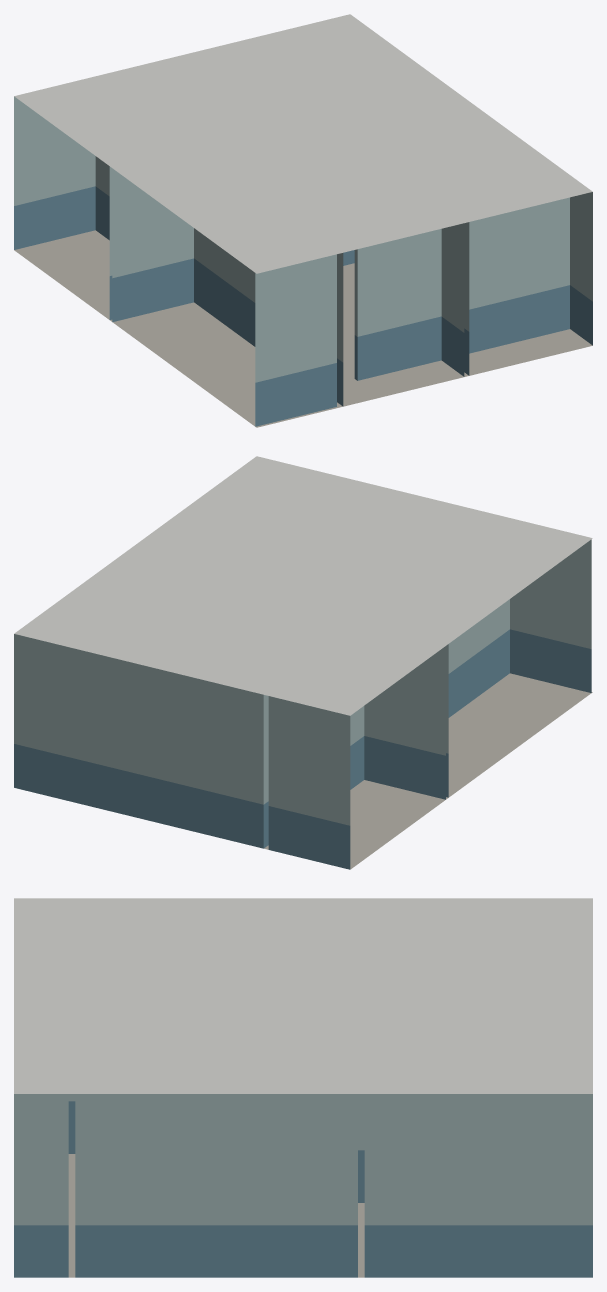
The model's file is chunk_4_0.glb.
The picture shows the model from 3 angles, top to bottom: view 1: azimuth 30°, elevation 25°; view 2: azimuth 150°, elevation 25°; view 3: azimuth 270°, elevation 25°; orthographic projection. The views are drawn at different scales.
Visible parts, largest first — view 1: chunk_4_0; view 2: chunk_4_0; view 3: chunk_4_0.
Part boxes in pixels (box(x1,y1,x2,y2)): chunk_4_0: box(14, 14, 592, 427); chunk_4_0: box(14, 456, 592, 869); chunk_4_0: box(14, 898, 592, 1277).
Bounding box in the file's own units: 9.6 × 4.2 × 12.
